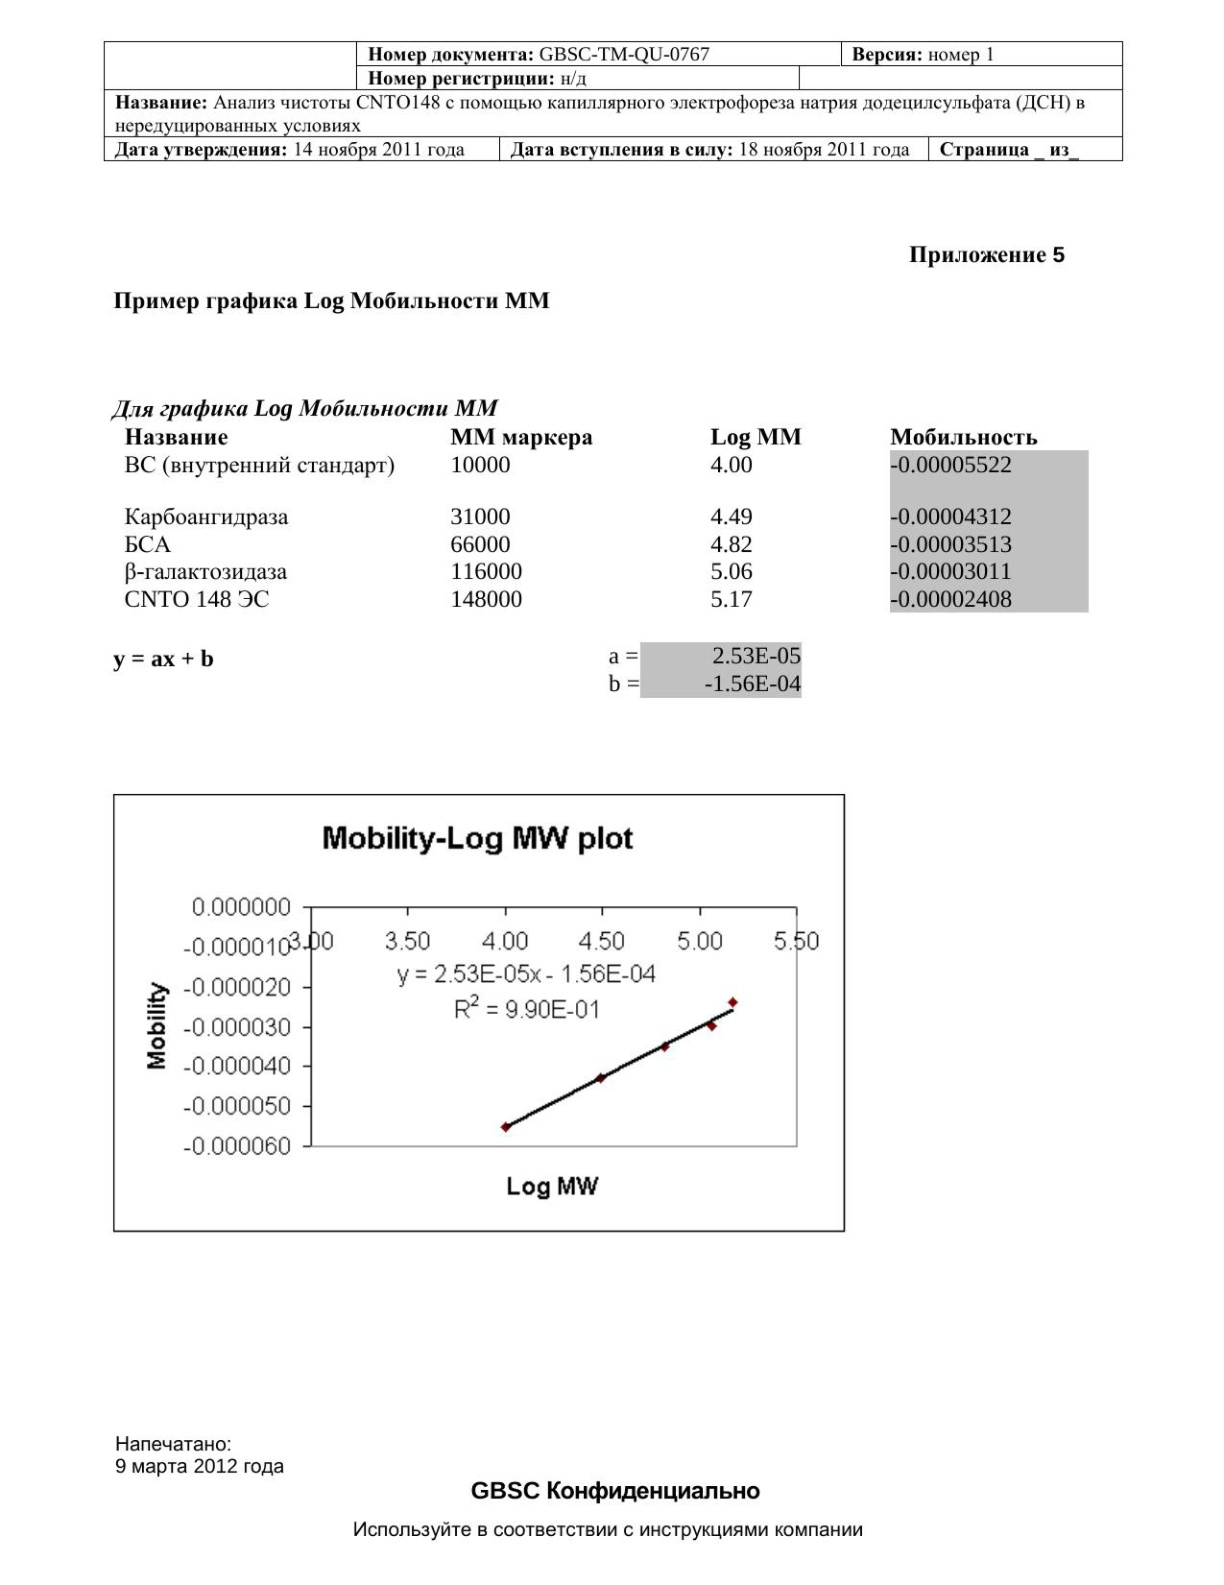merged_cells: (103, 39, 1124, 162)
nolines: (105, 397, 1093, 701)
